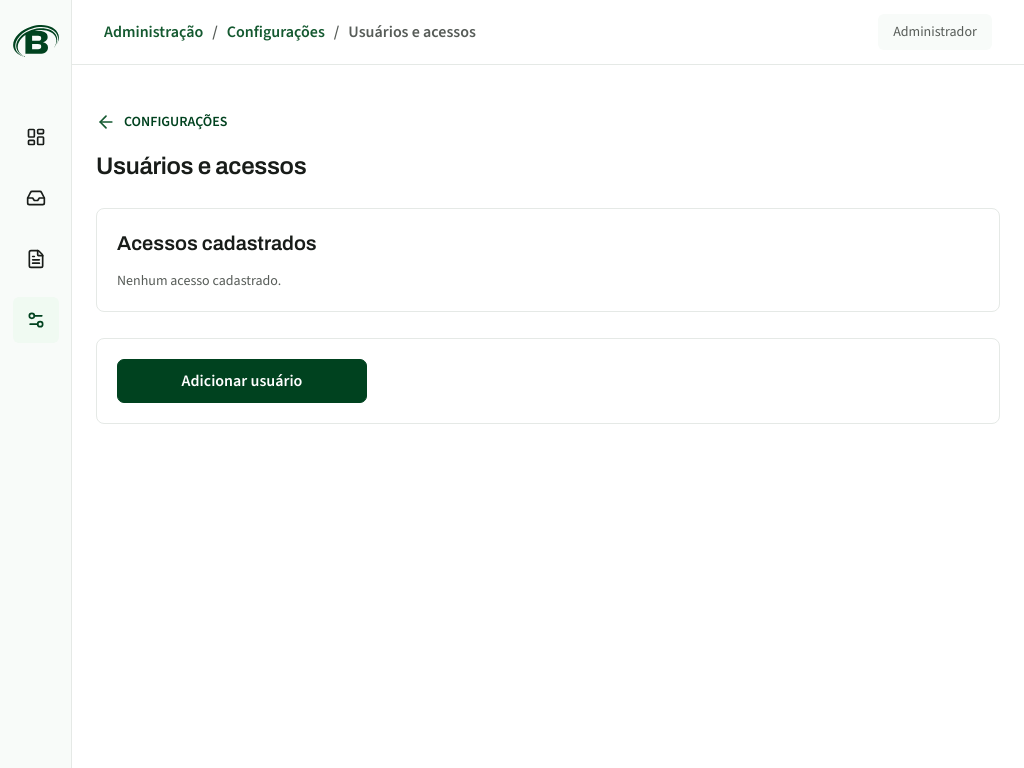
Test case: ADM-12 — formulário de criação de usuário › abre o formulário dentro da área de administração
The image size is (1024, 768).
Click the button "Adicionar usuário".
click(242, 381)  # box [117,359,367,403]
(page scrolled)
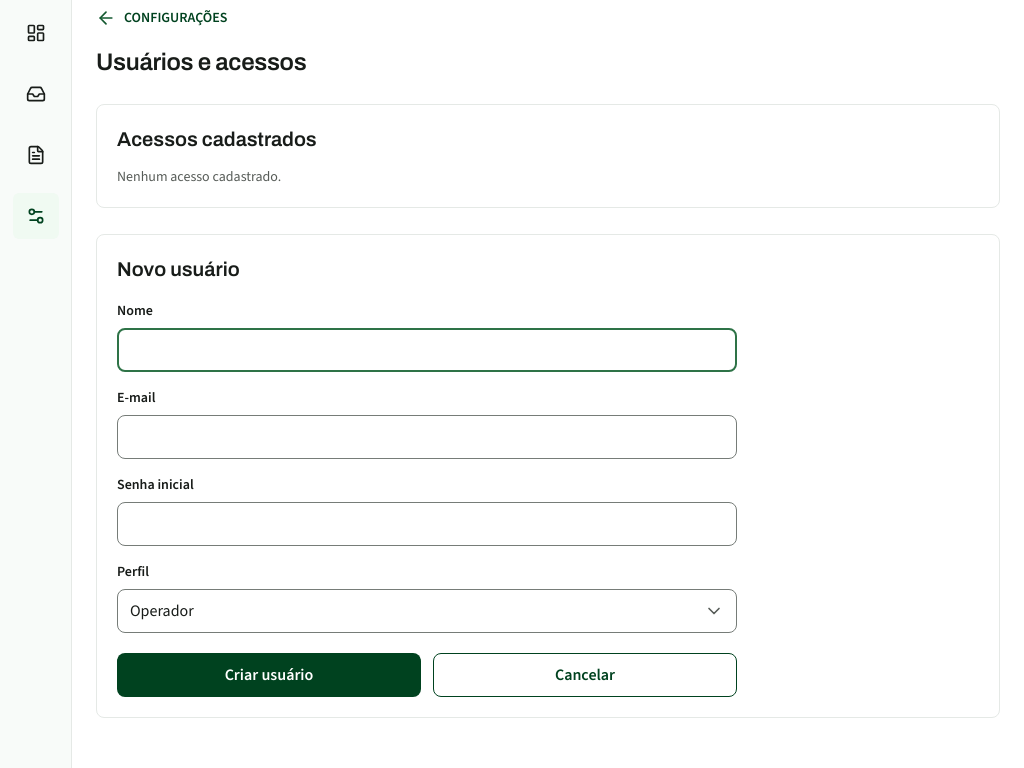
Check: the field labelled "Nome" is shown, box [117,328,737,372]
Check: the field labelled "E-mail" is shown, box [117,415,737,459]
Check: the password field labelled "Senha inicial" is shown, box [117,502,737,546]
